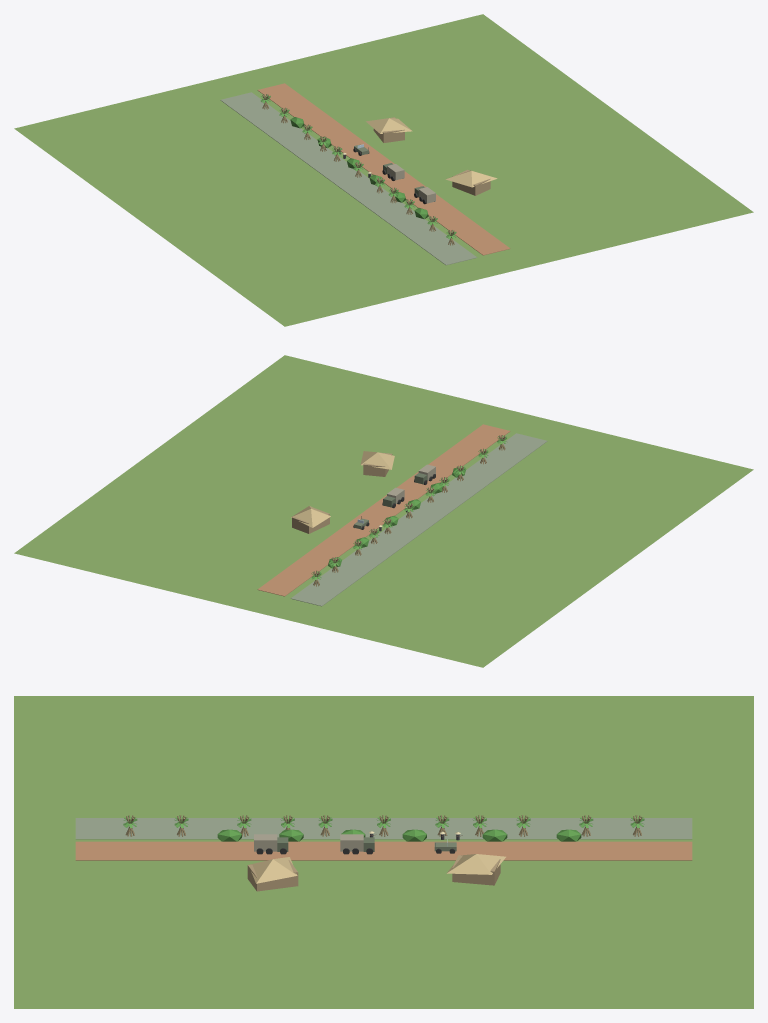
File: CaiSon_Ambush_Environment.glb
The picture shows the model from 3 angles, top to bottom: view 1: azimuth 30°, elevation 25°; view 2: azimuth 150°, elevation 25°; view 3: azimuth 270°, elevation 25°; orthographic projection. The views are drawn at different scales.
Visible parts, largest first — view 1: Ground_PaddyField, Canal_MekongRiver, Road_Dirt_CaiSon; view 2: Ground_PaddyField, Canal_MekongRiver, Road_Dirt_CaiSon; view 3: Ground_PaddyField, Road_Dirt_CaiSon, Canal_MekongRiver, House_SongPhu_1_Roof, House_SongPhu_2_Roof, House_SongPhu_2_Walls, House_SongPhu_1_Walls.
Boxes of the visible parts, left/top/right/bottom form: Ground_PaddyField: left=14, top=14, right=753, bottom=326; Canal_MekongRiver: left=220, top=92, right=477, bottom=265; Road_Dirt_CaiSon: left=257, top=83, right=510, bottom=255; Ground_PaddyField: left=14, top=355, right=753, bottom=667; Canal_MekongRiver: left=290, top=433, right=547, bottom=606; Road_Dirt_CaiSon: left=257, top=424, right=510, bottom=596; Ground_PaddyField: left=14, top=696, right=753, bottom=1008; Road_Dirt_CaiSon: left=75, top=841, right=692, bottom=860; Canal_MekongRiver: left=75, top=818, right=692, bottom=839; House_SongPhu_1_Roof: left=446, top=854, right=505, bottom=874; House_SongPhu_2_Roof: left=249, top=857, right=297, bottom=883; House_SongPhu_2_Walls: left=247, top=860, right=298, bottom=891; House_SongPhu_1_Walls: left=452, top=855, right=500, bottom=885.
Bounding box in the file's own units: 120 × 4.87 × 120.
